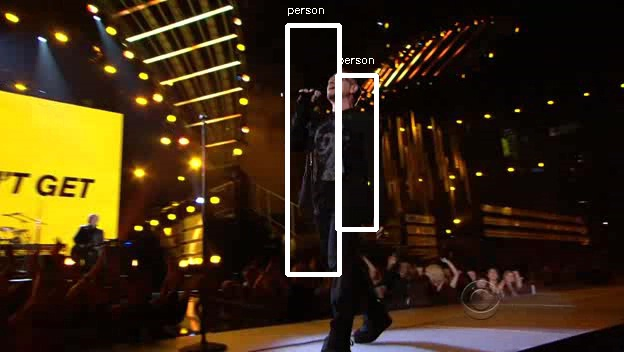person: (296, 69, 376, 240), (293, 69, 373, 240), (299, 69, 379, 240), (296, 66, 376, 237), (296, 72, 376, 243)
target_negative: (132, 122, 482, 306), (220, 6, 241, 304), (417, 209, 482, 295), (52, 58, 273, 81), (441, 340, 561, 344), (427, 337, 467, 346)
